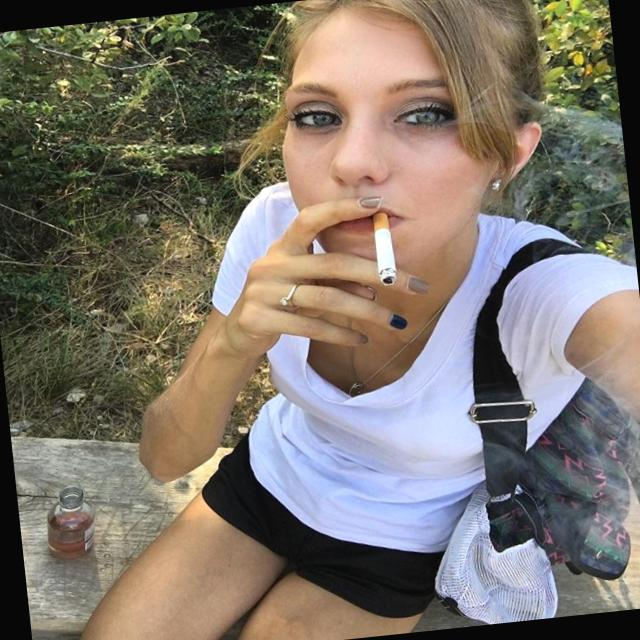cigarette: (362, 205, 400, 288)
